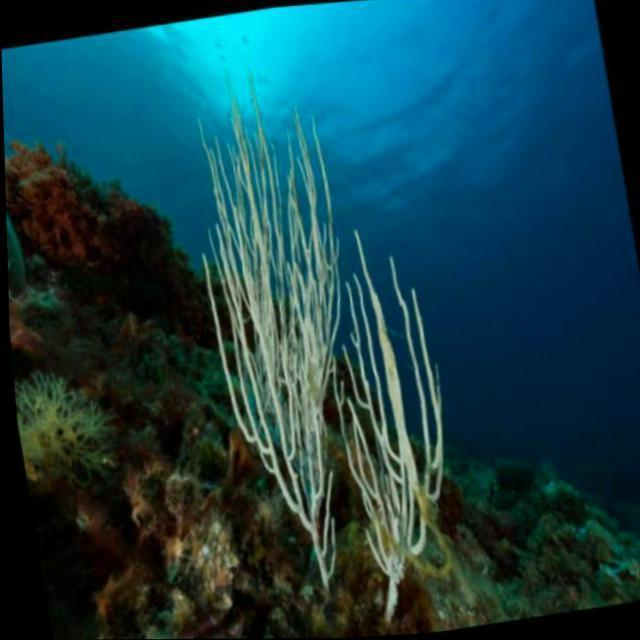Dead Coral: (158, 34, 489, 639)
